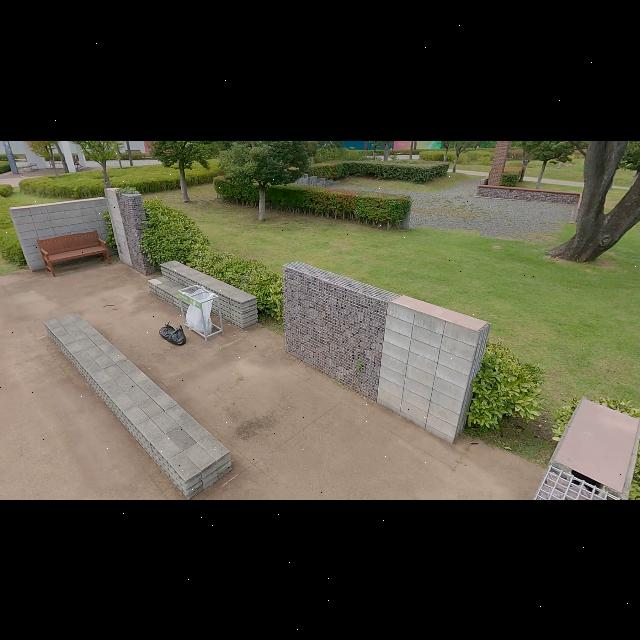trash: (170, 324, 188, 346), (159, 319, 177, 341)
